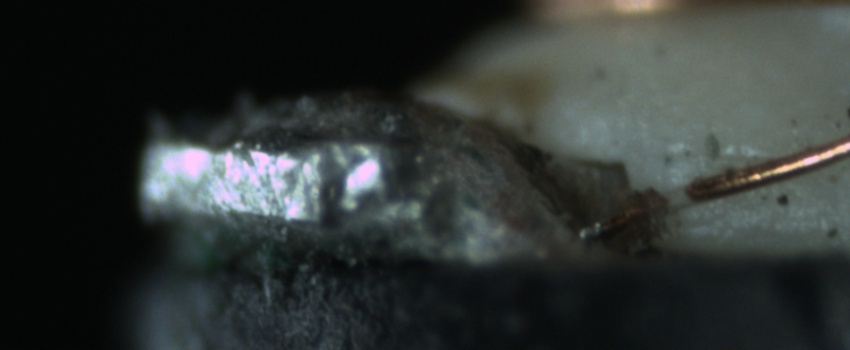DL: (657, 138, 779, 176)
